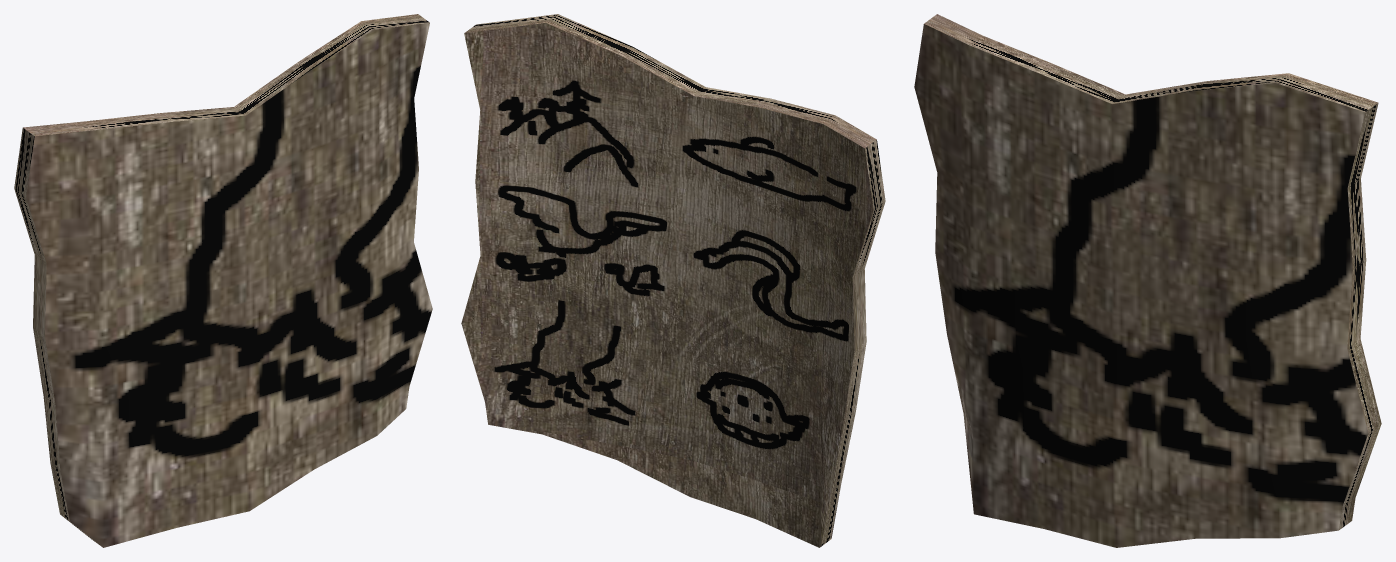
File: map.fbx
The picture shows the model from 3 angles, left to right: view 1: azimuth 30°, elevation 25°; view 2: azimuth 150°, elevation 25°; view 3: azimuth 330°, elevation 25°; orthographic projection. The views are drawn at different scales.
Visible parts, largest first — view 1: pCube1; view 2: pCube1; view 3: pCube1.
Part boxes in pixels (x1,y1,x2,y2): pCube1: [14, 14, 432, 547]; pCube1: [461, 14, 885, 547]; pCube1: [914, 14, 1381, 547].
Bounding box in the file's own units: 1.75 × 1.86 × 0.2694.
